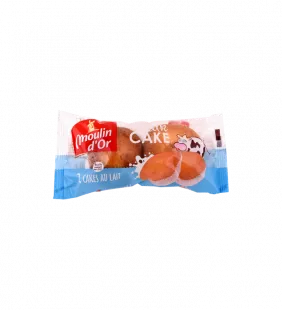MOULIN D'OR: (44, 100, 236, 205)
